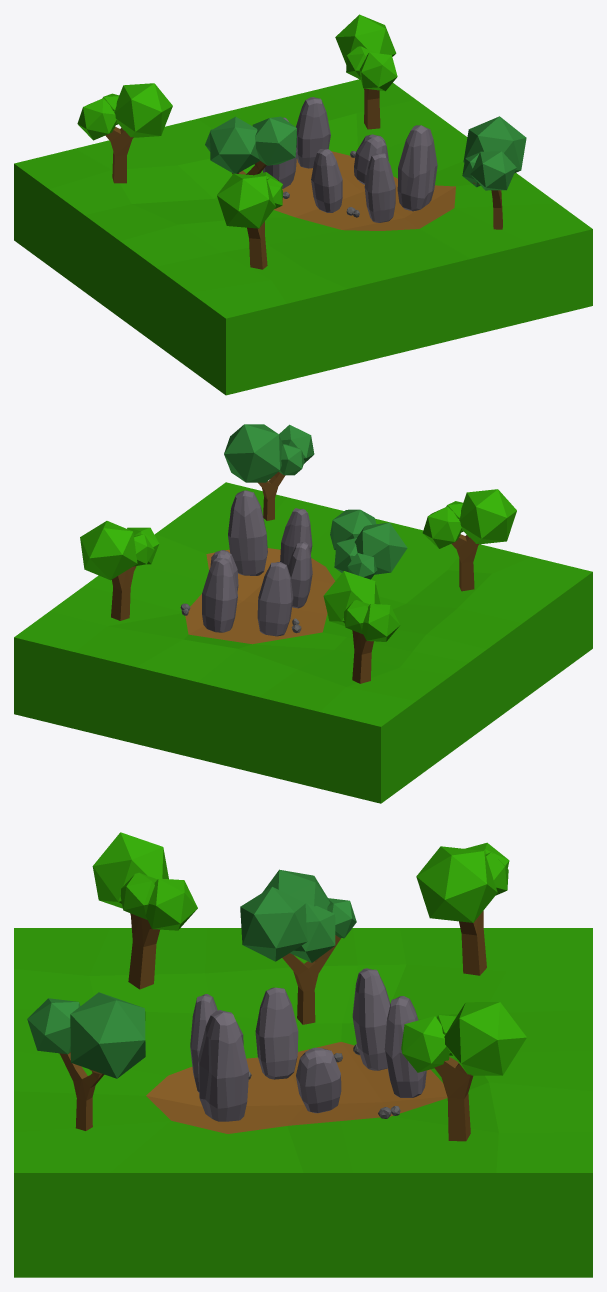
Rendered from clairiere_menhir_001.fbx.
3 views of the same model, one above another, from view 1: azimuth 30°, elevation 25°; view 2: azimuth 150°, elevation 25°; view 3: azimuth 270°, elevation 25° (orthographic). The views are drawn at different scales.
Visible parts, largest first — view 1: Cube, Cube.005, Icosphere.009, Icosphere.021, Icosphere.007, Icosphere.002, Cube.002, Cube.006, Icosphere.008, Cube.003, Icosphere.001, Icosphere.012 (+8 smaller); view 2: Cube, Icosphere.002, Cube.005, Icosphere.001, Icosphere.009, Cube.002, Cube.001, Icosphere.007, Icosphere.021, Cube.003, Icosphere.006, Cube.006 (+11 smaller); view 3: Cube, Icosphere.002, Icosphere.021, Cube.005, Icosphere.001, Icosphere.008, Icosphere.009, Cube.003, Cube.001, Cube.002, Cube.004, Icosphere.012 (+12 smaller).
Boxes of the visible parts, left/top/right/bottom form: Cube: left=14, top=79, right=592, bottom=395; Cube.005: left=397, top=125, right=437, bottom=211; Icosphere.009: left=217, top=173, right=275, bottom=228; Icosphere.021: left=114, top=83, right=172, bottom=137; Icosphere.007: left=210, top=116, right=259, bottom=173; Icosphere.002: left=463, top=116, right=526, bottom=173; Cube.002: left=296, top=97, right=330, bottom=168; Cube.006: left=364, top=152, right=395, bottom=222; Icosphere.008: left=252, top=116, right=296, bottom=165; Cube.003: left=311, top=149, right=342, bottom=212; Icosphere.001: left=335, top=14, right=396, bottom=64; Icosphere.012: left=470, top=151, right=516, bottom=190; Cube: left=14, top=482, right=592, bottom=803; Icosphere.002: left=224, top=424, right=282, bottom=482; Cube.005: left=228, top=490, right=267, bottom=575; Icosphere.001: left=80, top=521, right=137, bottom=580; Icosphere.009: left=459, top=489, right=516, bottom=544; Cube.002: left=202, top=558, right=237, bottom=632; Cube.001: left=257, top=562, right=293, bottom=636; Icosphere.007: left=354, top=522, right=407, bottom=574; Icosphere.021: left=323, top=571, right=380, bottom=626; Cube.003: left=288, top=542, right=312, bottom=608; Icosphere.006: left=422, top=506, right=461, bottom=548; Cube.006: left=280, top=508, right=312, bottom=567; Cube: left=14, top=928, right=592, bottom=1277; Icosphere.002: left=70, top=992, right=145, bottom=1078; Icosphere.021: left=416, top=846, right=497, bottom=922; Cube.005: left=198, top=1010, right=248, bottom=1121; Icosphere.001: left=444, top=1002, right=526, bottom=1075; Icosphere.008: left=240, top=886, right=307, bottom=961; Icosphere.009: left=92, top=832, right=168, bottom=908; Cube.003: left=255, top=987, right=298, bottom=1079; Cube.001: left=352, top=968, right=390, bottom=1070; Cube.002: left=384, top=996, right=426, bottom=1097; Cube.004: left=296, top=1047, right=341, bottom=1113; Icosphere.012: left=27, top=998, right=80, bottom=1054.
Bounding box in the file's own units: 200 × 91.59 × 200.
